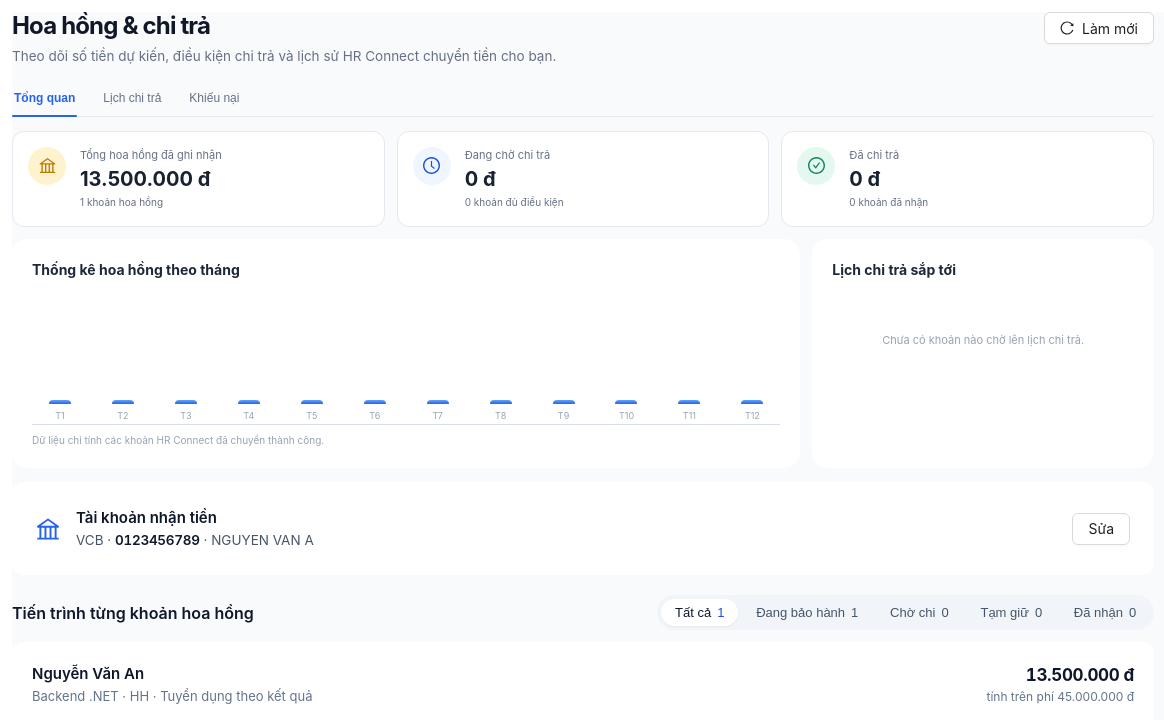
Scenario: Affiliate › Hoa hồng & chi trả › filters by group and shows an empty state for an empty group
The width and height of the screenshot is (1164, 720).
Click the radio button labelled "Tạm giữ0".
click(1011, 612)  # box [966,599,1056,626]
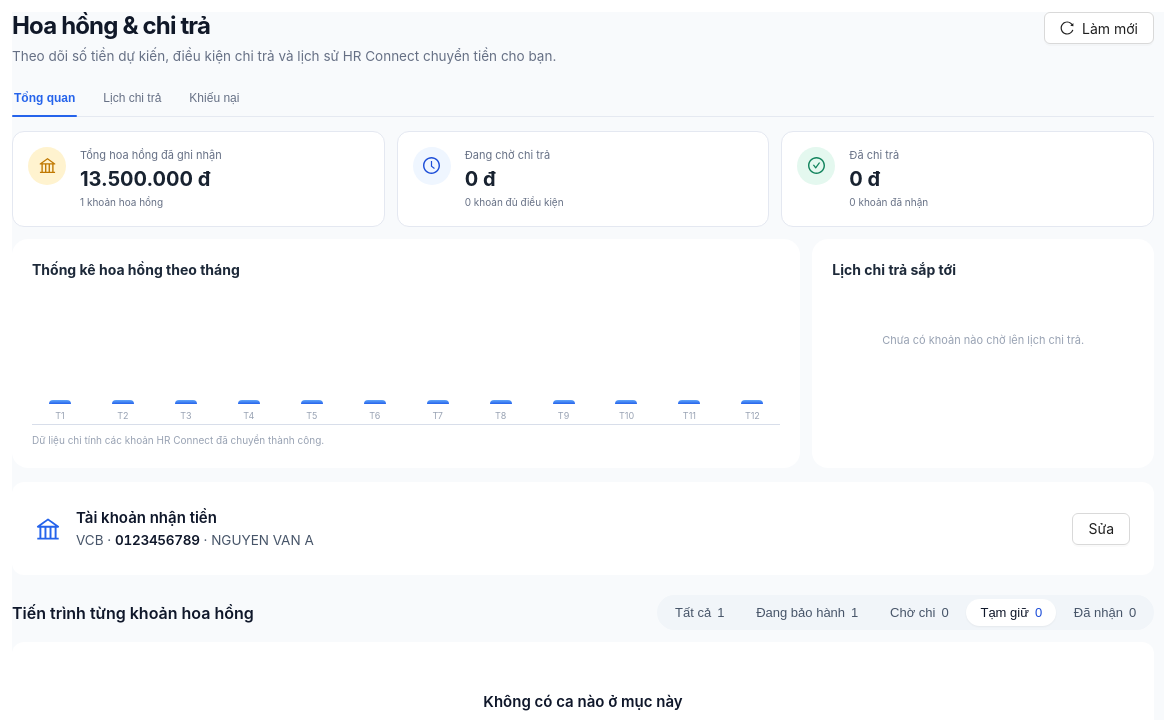
Expected: the text "Không có ca nào ở mục này" is shown, [483,692,683,711]
Expected: the text "Nguyễn Văn An" is gone
